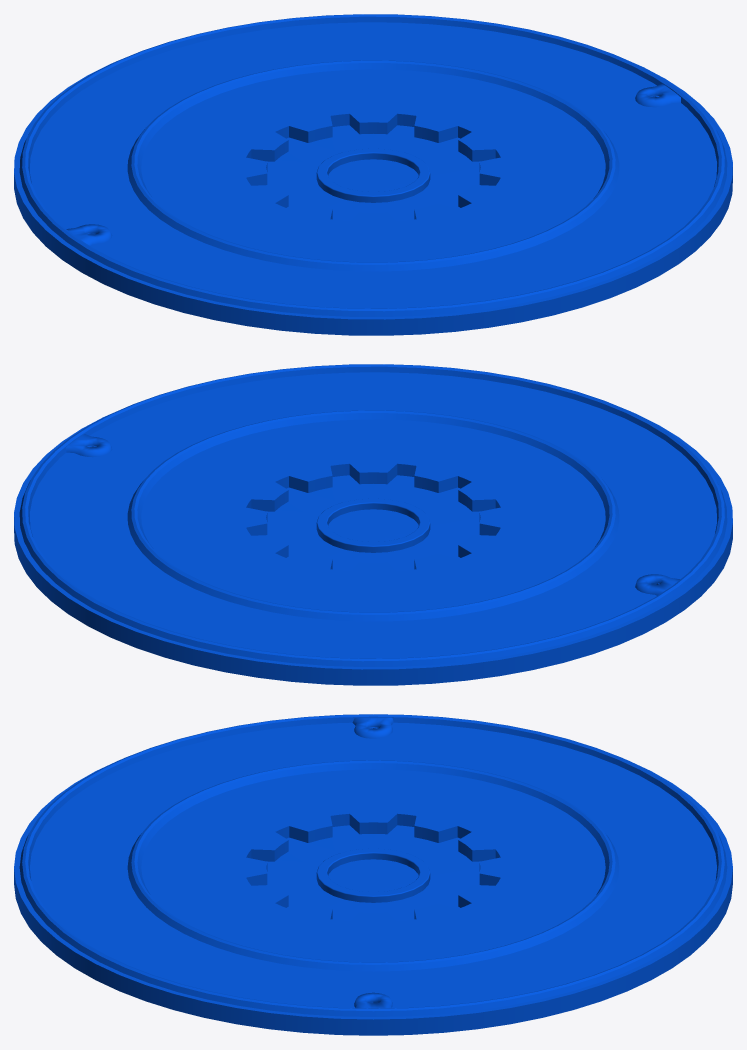
The model's file is SM_manhole.fbx.
The picture shows the model from 3 angles, top to bottom: view 1: azimuth 30°, elevation 25°; view 2: azimuth 150°, elevation 25°; view 3: azimuth 270°, elevation 25°; orthographic projection.
Visible parts, largest first — view 1: manhole_low; view 2: manhole_low; view 3: manhole_low.
Boxes of the visible parts, <box> form: manhole_low: <box>14,14,732,335</box>; manhole_low: <box>14,364,732,685</box>; manhole_low: <box>14,714,732,1035</box>.
Bounding box in the file's own units: 200 × 6.8 × 200.
